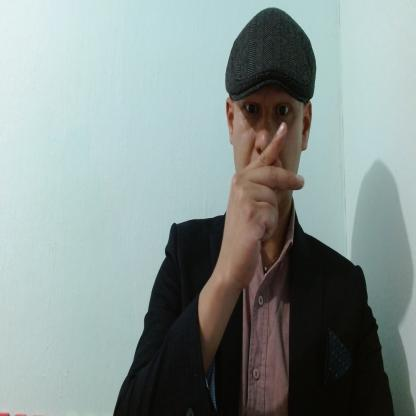P: (221, 117, 304, 286)
